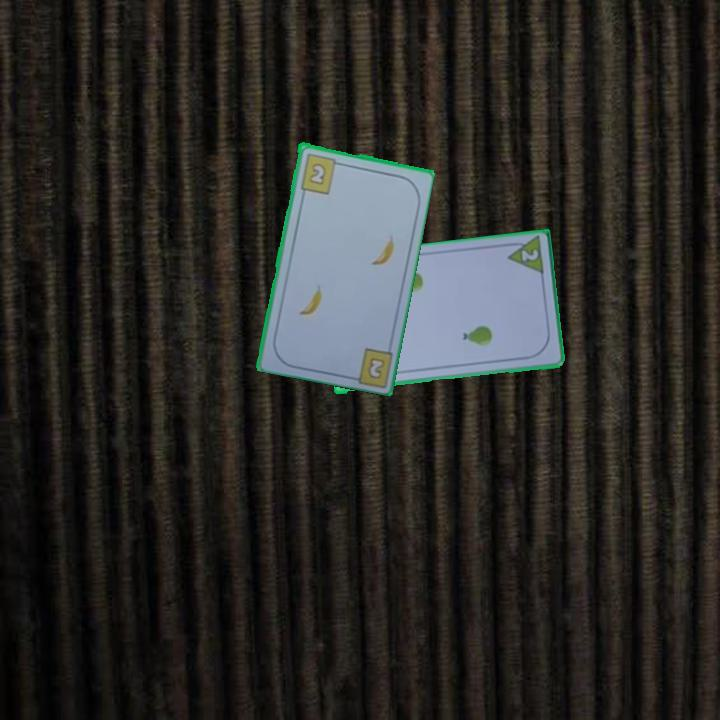2b: (296, 150, 344, 196), (366, 356, 385, 380)
2p: (501, 234, 546, 279)
